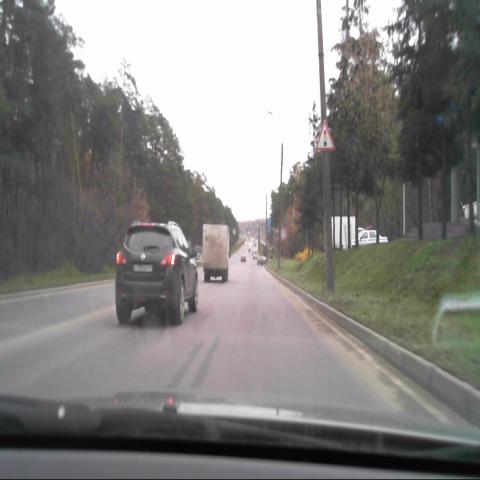1_8: (314, 120, 334, 150)
